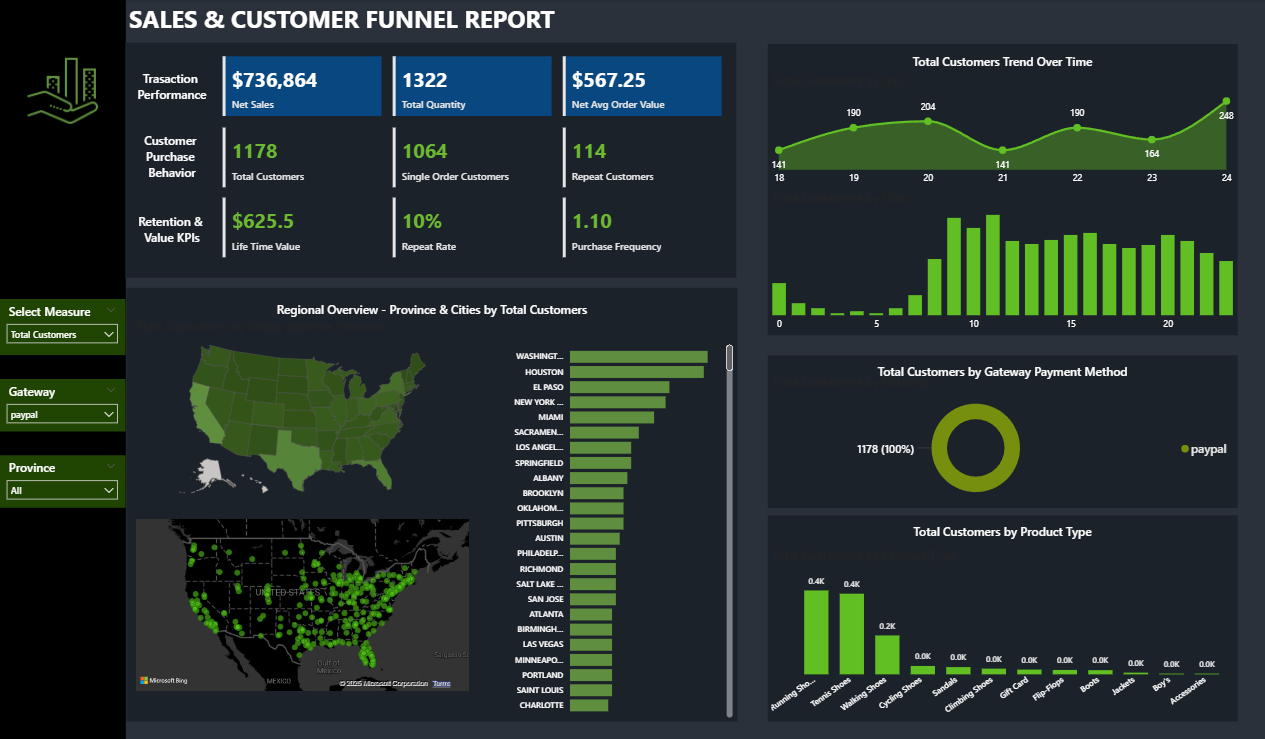

The page's visual inventory and layout, read from the dashboard file:
{"tool":"powerbi","page":{"name":"Shopify Analysis","canvas":[1700,1000],"ordinal":0},"visuals":[{"type":"shape","box":[0,0,170,999],"z":0},{"type":"textbox","box":[169.2,0,754,58.6],"z":1000},{"type":"shape","box":[169.2,58.6,819.4,315],"z":2000},{"type":"cardVisual","fields":{"Data":["shopify_sales.Net Sales","shopify_sales.Total Quantity","shopify_sales.Net Avg Order Value"]},"box":[294.9,72.1,680.3,90.5],"z":3000},{"type":"card","fields":{"Values":["shopify_sales.Transaction Perf"]},"box":[169.2,82.1,125.7,70.4],"z":4000},{"type":"cardVisual","fields":{"Data":["shopify_sales.Total Customers","shopify_sales.Single Order Customers","shopify_sales.Repeat Customers"]},"box":[294.9,166.7,680.3,90.5],"z":5000},{"type":"card","fields":{"Values":["shopify_sales.Customer Purchase Behavior"]},"box":[169.2,160,125.7,93.8],"z":6000},{"type":"cardVisual","fields":{"Data":["shopify_sales.Life Time Value","shopify_sales.Repeat Rate","shopify_sales.Purchase Frequency"]},"box":[294.9,261.4,680.3,90.5],"z":7000},{"type":"card","fields":{"Values":["shopify_sales.Retention & Value KPIs"]},"box":[169.2,261.4,125.7,93.8],"z":8000},{"type":"shape","box":[170.9,387.1,819.4,581.4],"z":9000},{"type":"shapeMap","fields":{"Value":["shopify_sales.Total Customers"],"Category":["shopify_sales.Billing Address Province"]},"box":[179.3,429,455.8,249.7],"z":10000},{"type":"slicer","fields":{"Values":["Select Measure.Select Measure"]},"box":[0,402.1,169.2,75.4],"z":11000},{"type":"map","fields":{"Category":["shopify_sales.Location"]},"box":[179.3,692,455.8,241.3],"z":12000},{"type":"clusteredBarChart","fields":{"Y":["shopify_sales.Total Customers"],"Category":["shopify_sales.CITY"]},"box":[673.6,450.7,315,517.8],"z":13000},{"type":"card","fields":{"Values":["shopify_sales.Map Title"]},"box":[316.7,402.1,527.8,33.5],"z":14000},{"type":"shape","box":[1030.5,60.3,630,390.4],"z":15000},{"type":"areaChart","fields":{"Y":["shopify_sales.Total Customers"],"Category":["shopify_sales.Invoice Date.Variation.Date Hierarchy.Day"]},"box":[1030.5,98.9,630,159.2],"z":16000},{"type":"clusteredColumnChart","fields":{"Y":["shopify_sales.Total Customers"],"Category":["shopify_sales.Hour"]},"box":[1030.5,256.4,630,197.7],"z":17000},{"type":"card","fields":{"Values":["shopify_sales.Trend Title"]},"box":[1204.8,72.1,281.5,26.8],"z":18000},{"type":"shape","box":[1030.5,477.5,630,205],"z":19000},{"type":"donutChart","fields":{"Y":["shopify_sales.Total Customers"],"Category":["shopify_sales.Gateway"]},"box":[1030.5,502.7,630,179.3],"z":20000},{"type":"card","fields":{"Values":["shopify_sales.Gateway Title"]},"box":[1151.1,487.6,388.7,28.5],"z":21000},{"type":"shape","box":[1030.5,692,630,276.5],"z":22000},{"type":"columnChart","fields":{"Y":["shopify_sales.Total Customers"],"Category":["shopify_sales.Product Type"]},"box":[1030.5,735.6,630,232.9],"z":23000},{"type":"card","fields":{"Values":["shopify_sales.Product Title"]},"box":[1142.8,697.1,405.5,38.5],"z":24000},{"type":"slicer","fields":{"Values":["shopify_sales.Gateway"]},"box":[0,509.4,169.2,70.4],"z":26000},{"type":"slicer","fields":{"Values":["shopify_sales.Billing Address Province"]},"box":[0,611.6,169.2,70.4],"z":27000},{"type":"image","box":[23.5,60.3,124,125.7],"z":27001}]}

Visuals, with their boxes in screenshot pixels (x1, y1, x2, y2), scaled from the page's 1700x1000 canvas onto the 1265x739 screenshot:
shape: 0,0,126,738
textbox: 126,0,687,43
shape: 126,43,736,276
cardVisual - shopify_sales.Net Sales x shopify_sales.Total Quantity: 219,53,726,120
card - shopify_sales.Transaction Perf: 126,61,219,113
cardVisual - shopify_sales.Total Customers x shopify_sales.Single Order Customers: 219,123,726,190
card - shopify_sales.Customer Purchase Behavior: 126,118,219,188
cardVisual - shopify_sales.Life Time Value x shopify_sales.Repeat Rate: 219,193,726,260
card - shopify_sales.Retention & Value KPIs: 126,193,219,262
shape: 127,286,737,716
shapeMap - shopify_sales.Total Customers x shopify_sales.Billing Address Province: 133,317,473,502
slicer - Select Measure.Select Measure: 0,297,126,353
map - shopify_sales.Location: 133,511,473,690
clusteredBarChart - shopify_sales.Total Customers x shopify_sales.CITY: 501,333,736,716
card - shopify_sales.Map Title: 236,297,628,322
shape: 767,45,1236,333
areaChart - shopify_sales.Total Customers x shopify_sales.Invoice Date.Variation.Date Hierarchy.Day: 767,73,1236,191
clusteredColumnChart - shopify_sales.Total Customers x shopify_sales.Hour: 767,189,1236,336
card - shopify_sales.Trend Title: 897,53,1106,73
shape: 767,353,1236,504
donutChart - shopify_sales.Total Customers x shopify_sales.Gateway: 767,371,1236,504
card - shopify_sales.Gateway Title: 857,360,1146,381
shape: 767,511,1236,716
columnChart - shopify_sales.Total Customers x shopify_sales.Product Type: 767,544,1236,716
card - shopify_sales.Product Title: 850,515,1152,544
slicer - shopify_sales.Gateway: 0,376,126,428
slicer - shopify_sales.Billing Address Province: 0,452,126,504
image: 17,45,110,137
